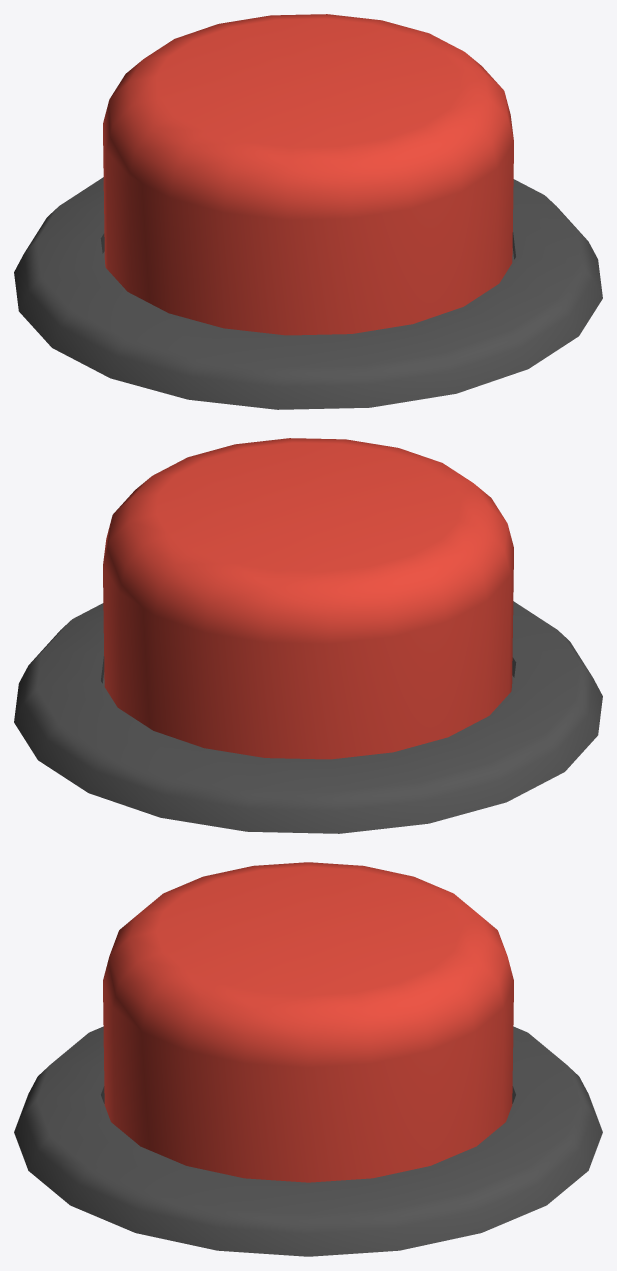
Rendered from button4.glb.
3 renders of one model, top to bottom at view 1: azimuth 30°, elevation 25°; view 2: azimuth 150°, elevation 25°; view 3: azimuth 270°, elevation 25°, orthographic.
Parts seen in each view (by area): view 1: SM_SimpleButton_B.001, SM_SimpleButton_Base_B.001; view 2: SM_SimpleButton_B.001, SM_SimpleButton_Base_B.001; view 3: SM_SimpleButton_B.001, SM_SimpleButton_Base_B.001.
Boxes of the visible parts, left/top/right/bottom form: SM_SimpleButton_B.001: left=103, top=14, right=513, bottom=335; SM_SimpleButton_Base_B.001: left=14, top=177, right=602, bottom=409; SM_SimpleButton_B.001: left=103, top=438, right=513, bottom=759; SM_SimpleButton_Base_B.001: left=14, top=601, right=602, bottom=833; SM_SimpleButton_B.001: left=103, top=862, right=513, bottom=1182; SM_SimpleButton_Base_B.001: left=14, top=1026, right=602, bottom=1256.
Size of the model in its own units: 24.07 by 9.07 by 24.07.
